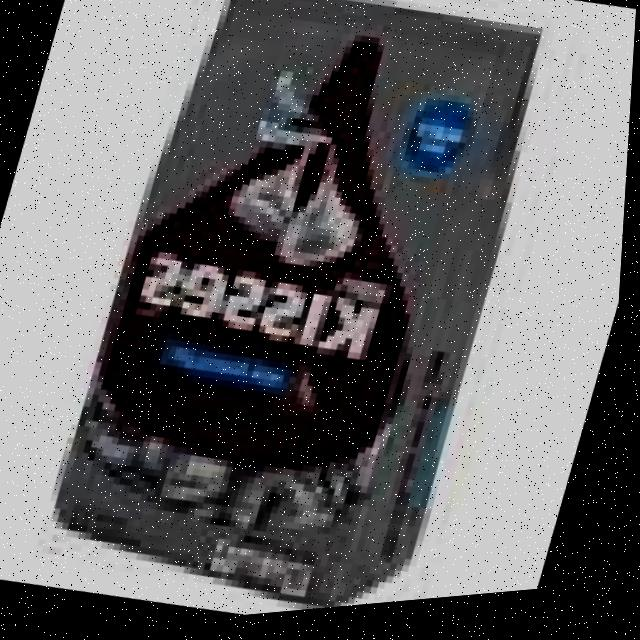kisses: (271, 132, 388, 290), (216, 110, 337, 258)
